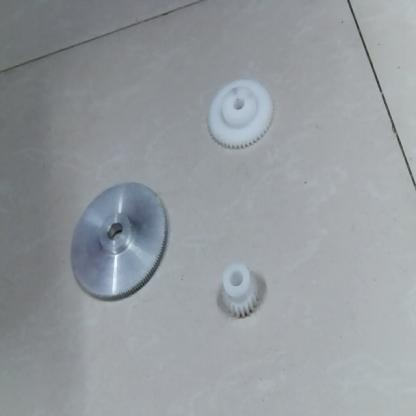FOD: (70, 178, 166, 301), (198, 80, 282, 150), (220, 259, 261, 319)
